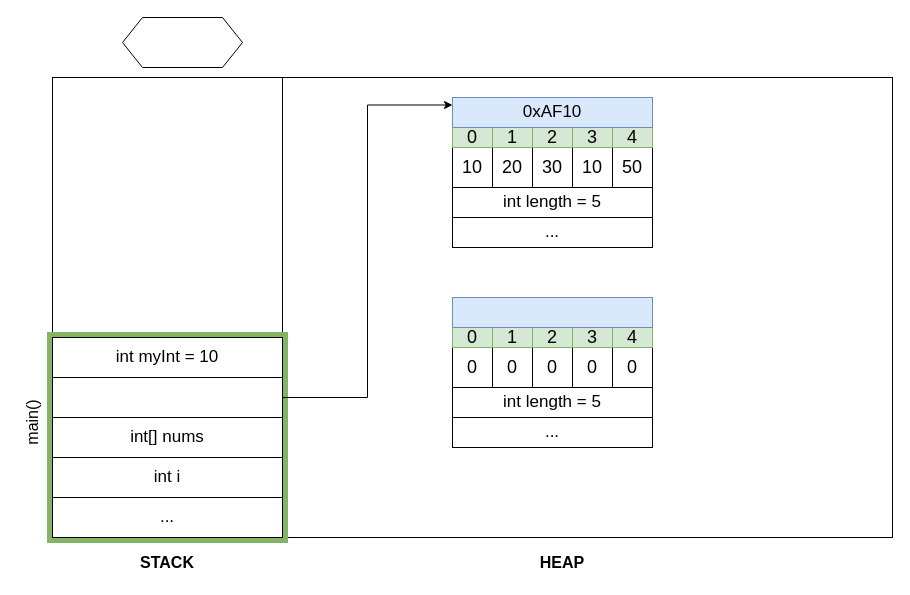
This 910x595 diagram has some shape labels left out. The shapes that lost their labels are listed below. From the top down, each one's box as (x1, y1, x2, y2) in pixels, then its label:
(122, 16, 242, 68): main thread
(452, 296, 652, 328): 0xAF11
(52, 376, 282, 418): int[] myArray = 0xAF10
